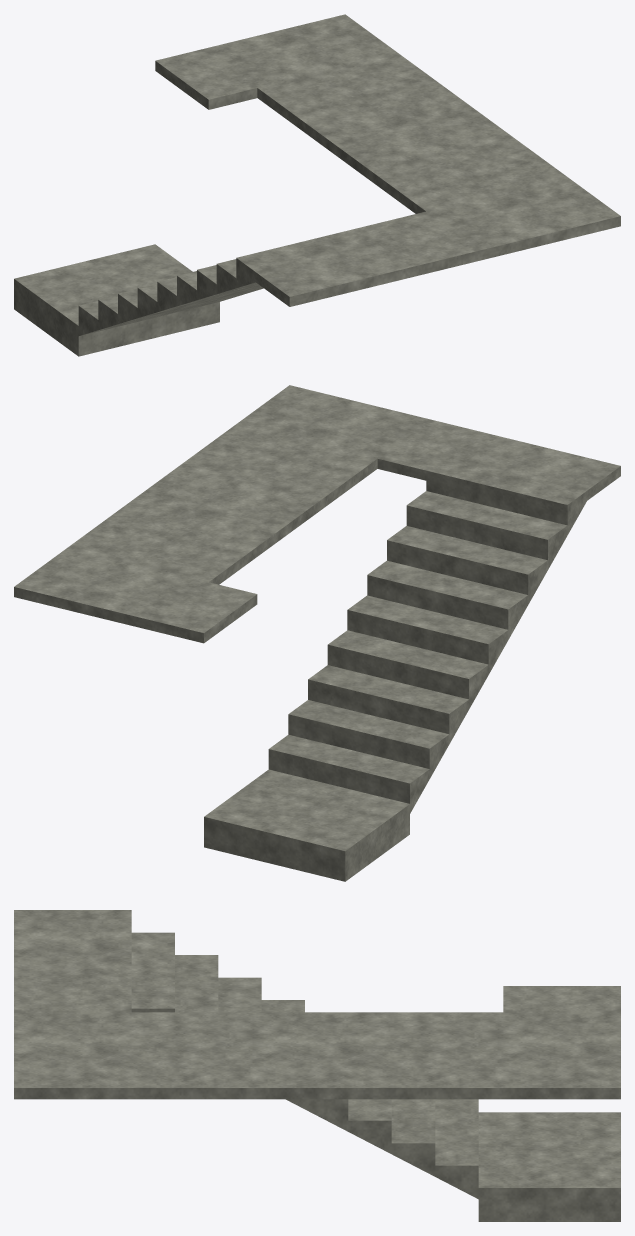
The model's file is stair.obj.
3 views of the same model, one above another, from view 1: azimuth 30°, elevation 25°; view 2: azimuth 150°, elevation 25°; view 3: azimuth 270°, elevation 25° (orthographic). The views are drawn at different scales.
Parts seen in each view (by area): view 1: SideStairsPart; view 2: SideStairsPart; view 3: SideStairsPart.
Boxes of the visible parts, bbox=[...] form: SideStairsPart: bbox=[14, 14, 620, 356]; SideStairsPart: bbox=[14, 385, 620, 881]; SideStairsPart: bbox=[14, 910, 620, 1221].
Size of the model in its own units: 6.8 by 4.2 by 9.8.
